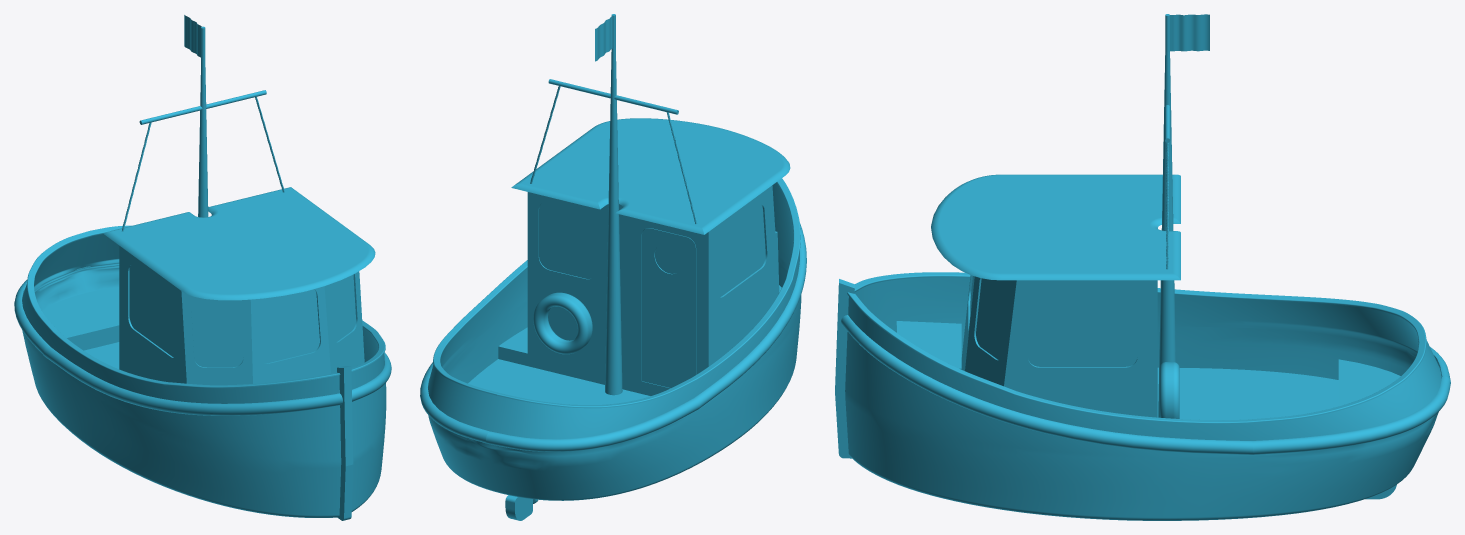
The model's file is minerva_tug.glb.
The picture shows the model from 3 angles, left to right: view 1: azimuth 30°, elevation 25°; view 2: azimuth 150°, elevation 25°; view 3: azimuth 270°, elevation 25°; orthographic projection. The views are drawn at different scales.
Parts seen in each view (by area): view 1: Minerva Tug; view 2: Minerva Tug; view 3: Minerva Tug.
Part boxes in pixels (x1,y1,x2,y2): Minerva Tug: [14, 15, 391, 520]; Minerva Tug: [420, 14, 806, 520]; Minerva Tug: [835, 14, 1450, 520].
Bounding box in the file's own units: 0.1641 × 0.266 × 0.3081.
